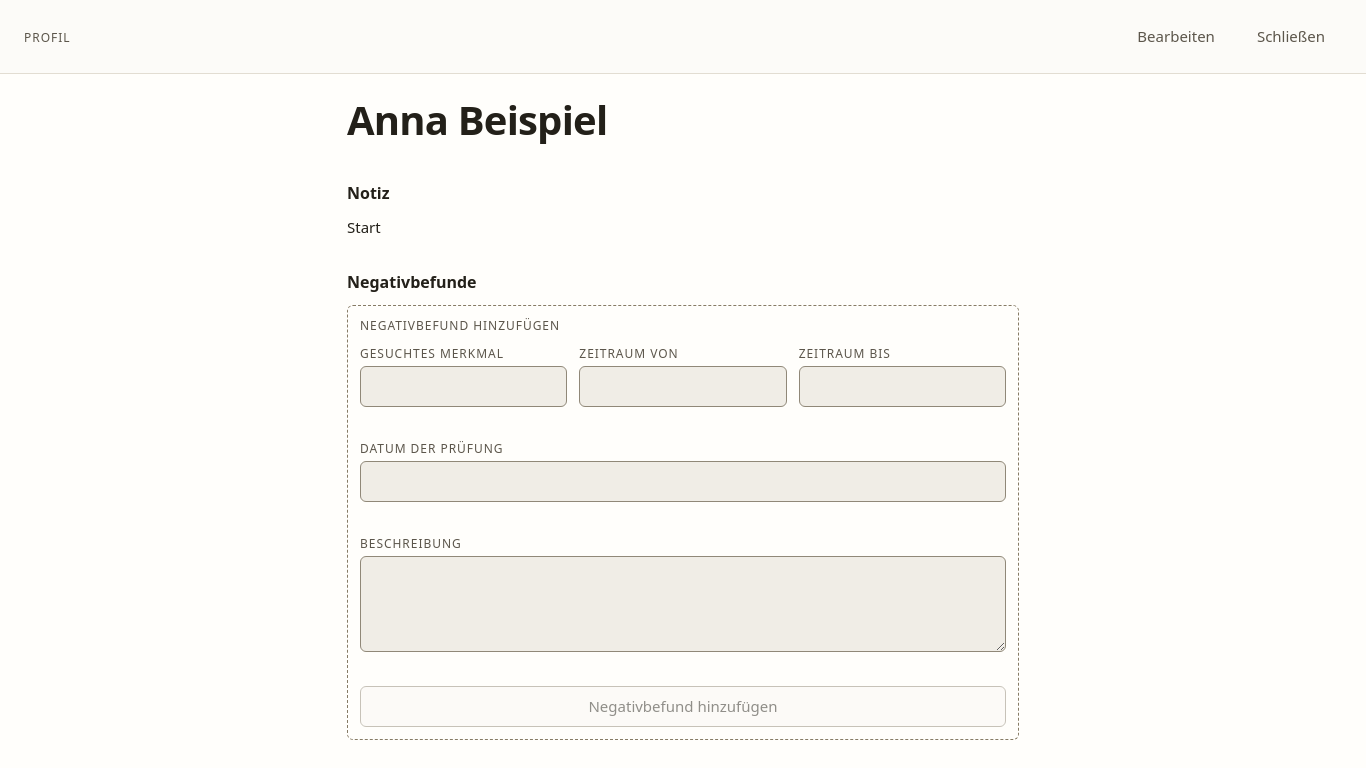
Test: PersonBearbeitenAnsicht — eigene Ansicht mit acht Reitern (AP-1.30 PR 7b) › Umzug: Geschlecht im Reiter Person, Namen im Reiter Namen, Notiz im Reiter Notizen, Ereignisse im Reiter Leben
Step 1. Click the button "Bearbeiten" → coordinates (1176, 36), box top-left (1120, 16), bottom-right (1232, 57)
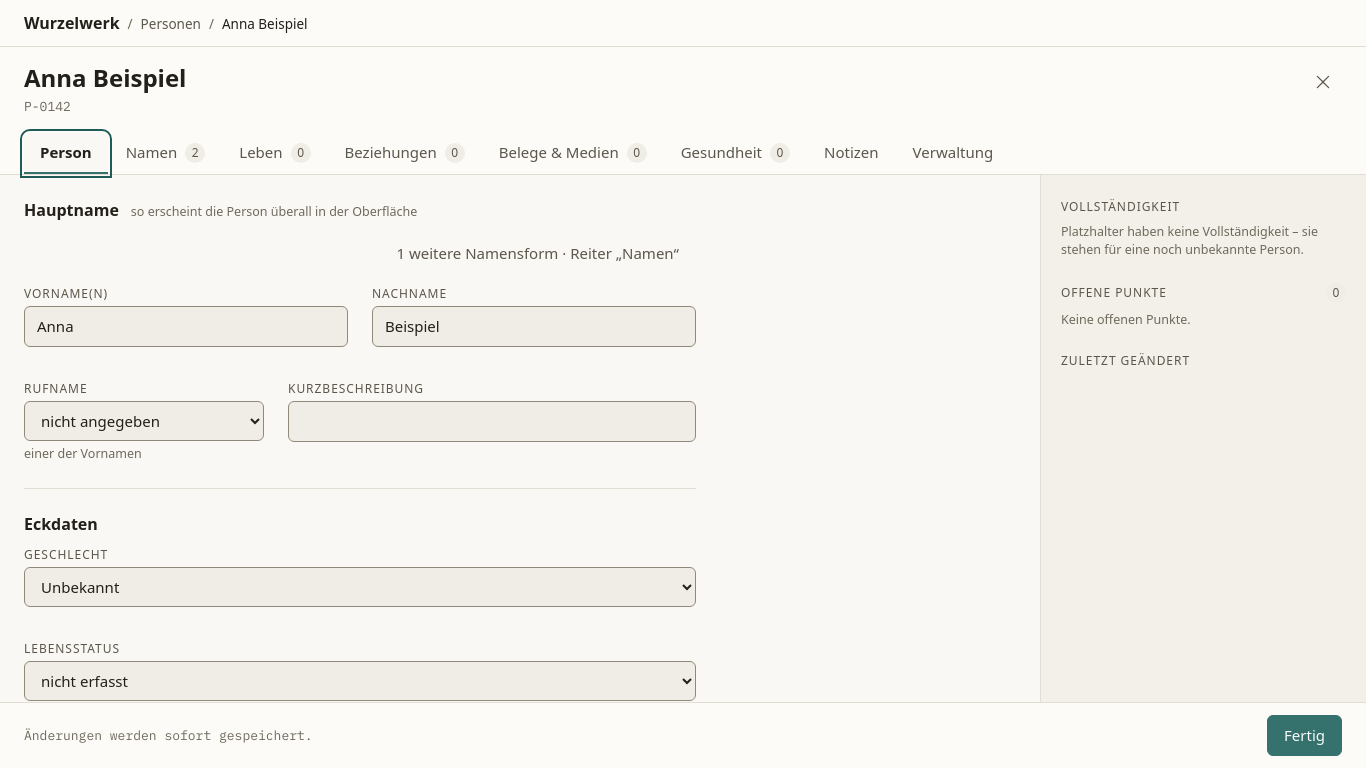
Check: the panel shows "Geschlecht", box top-left (24, 546), bottom-right (108, 563)
Check: the text box is gone
Step 2. Click the tab "Namen 2" → coordinates (166, 154), box top-left (110, 133), bottom-right (221, 174)
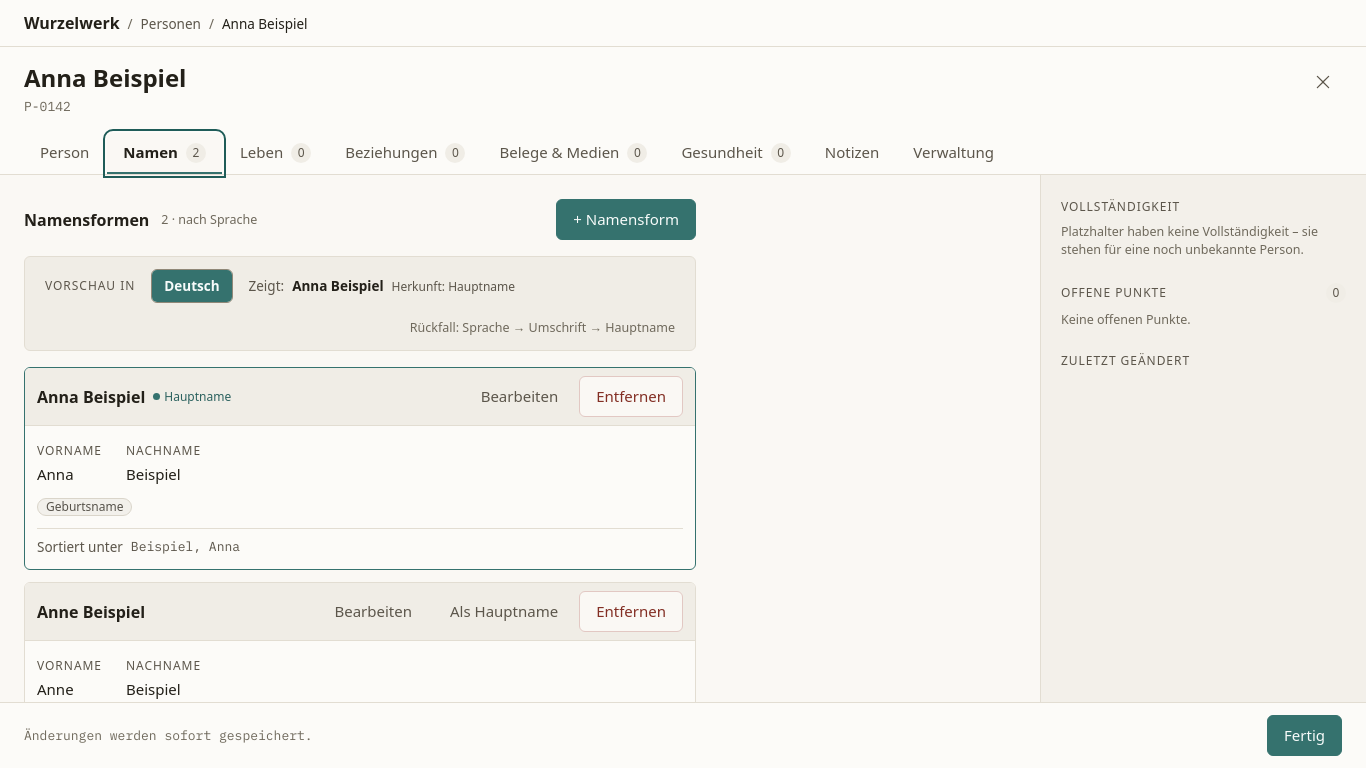
Check: the text with class "wz-reiterleiste__beschriftung" reads "Namen", box top-left (123, 142), bottom-right (178, 162)
Step 3. Click the tab "Notizen" → coordinates (852, 154), box top-left (809, 133), bottom-right (895, 174)
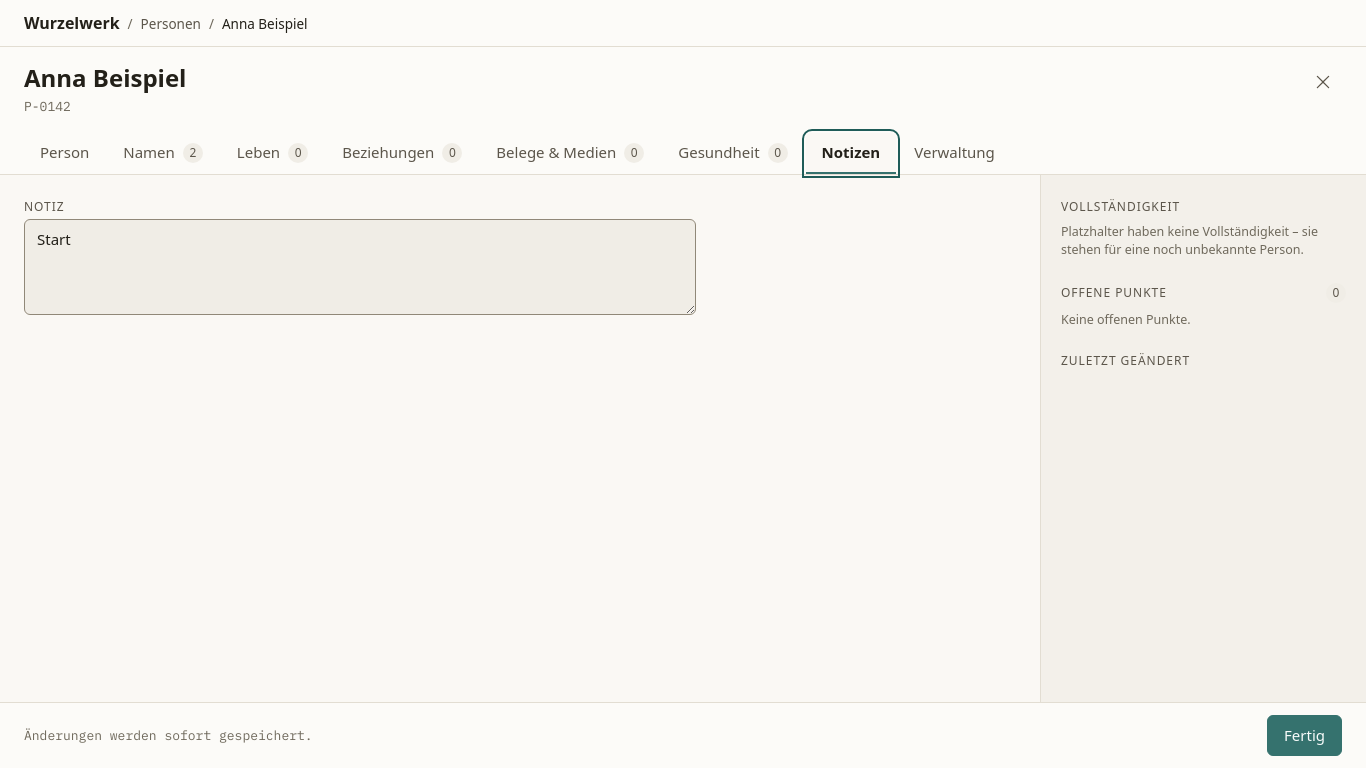
Check: the text box labelled "Notiz" holds "Start", box top-left (24, 219), bottom-right (696, 315)
Step 4. Click the tab "Leben 0" → coordinates (272, 154), box top-left (221, 133), bottom-right (324, 174)
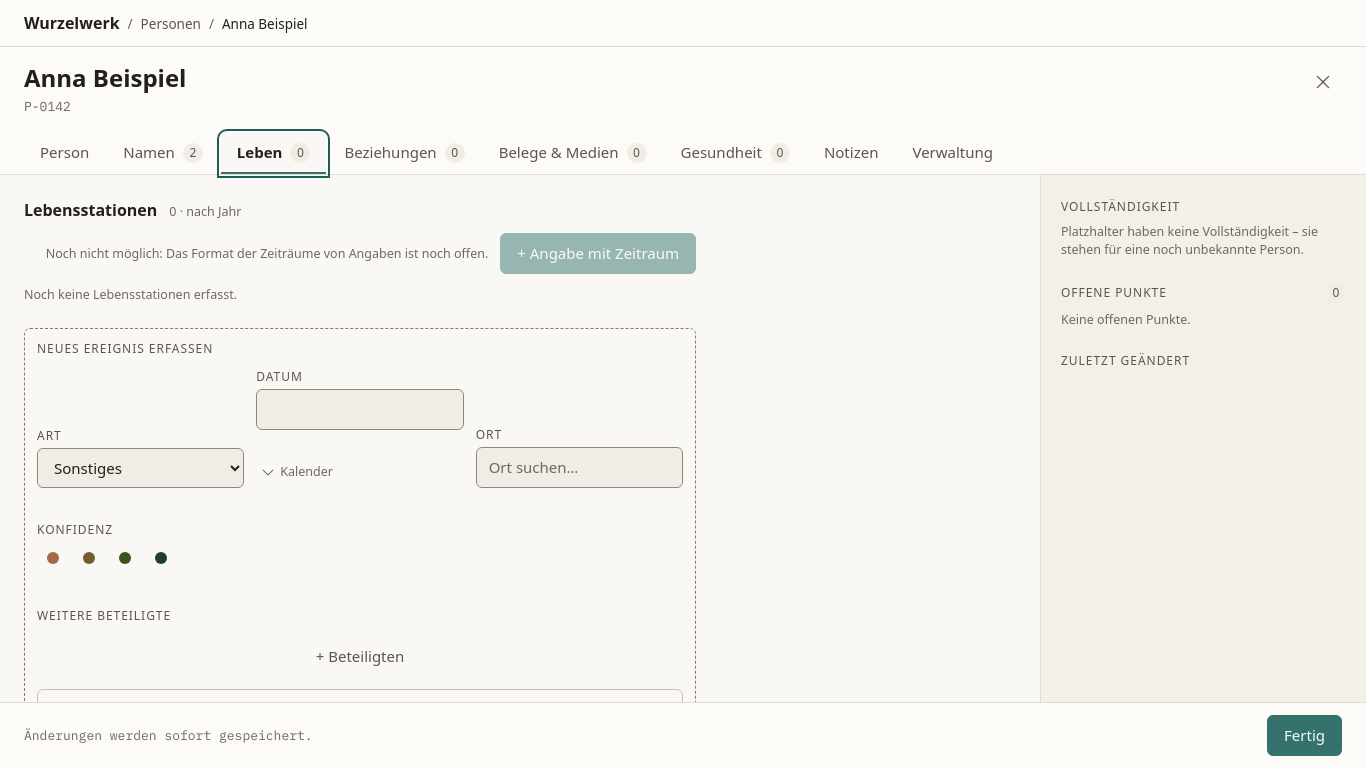
Check: the panel shows "Noch keine Lebensstationen erfasst.", box top-left (24, 286), bottom-right (237, 303)
Step 5. Click the tab "Verwaltung" → coordinates (953, 154), box top-left (896, 133), bottom-right (1009, 174)
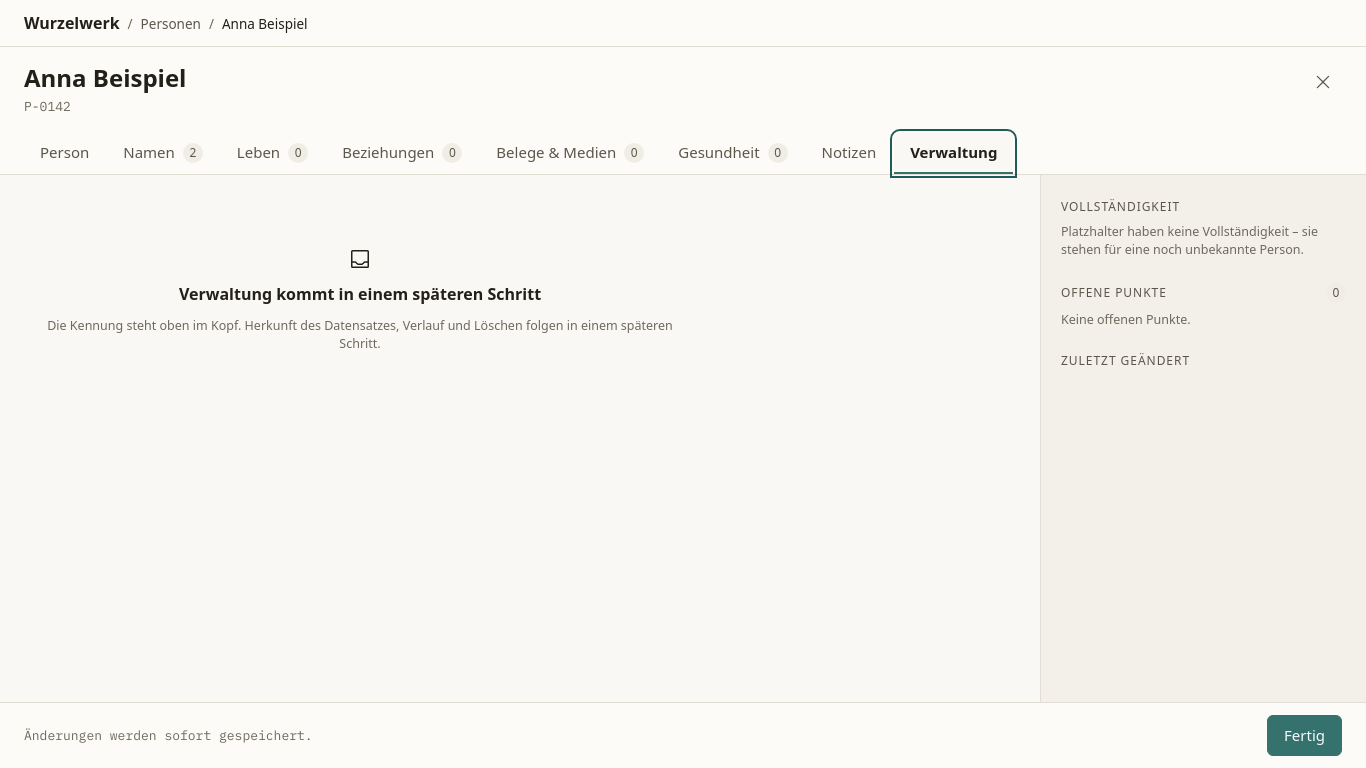
Check: the panel shows "kommt in einem späteren Schritt", box top-left (179, 283), bottom-right (541, 305)
